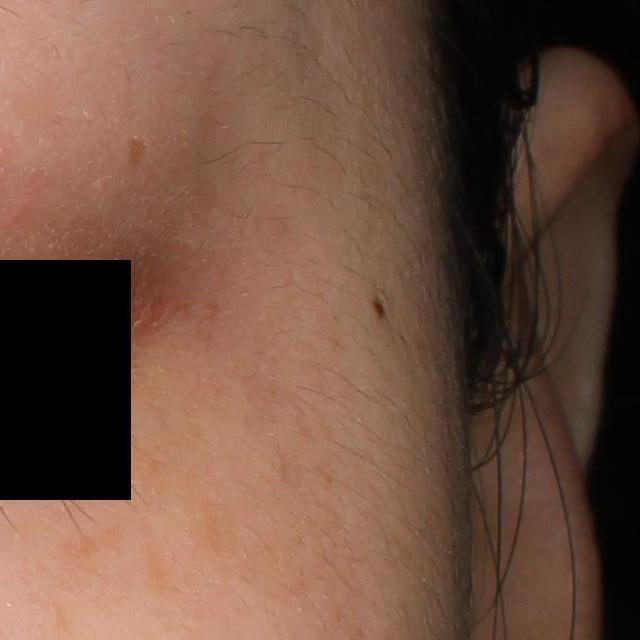melasma: (50, 521, 128, 566), (140, 529, 188, 597), (121, 133, 152, 173)
nevus: (366, 294, 390, 321)
